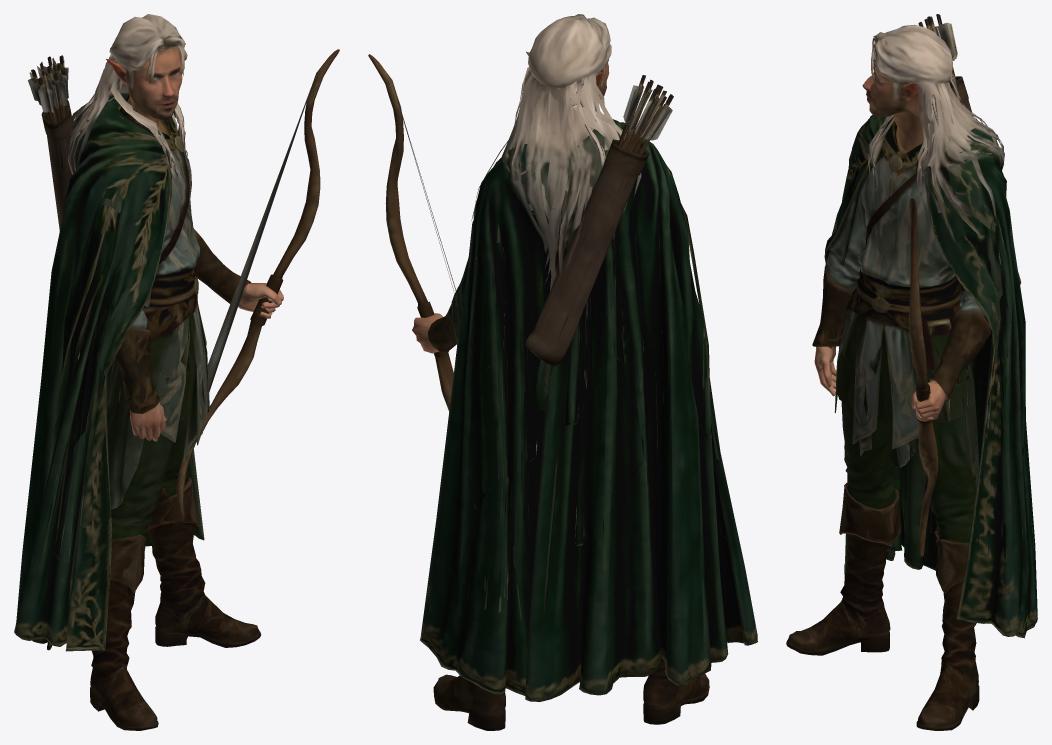
File: rycard.glb
3 views of the same model, side by side, from view 1: azimuth 30°, elevation 25°; view 2: azimuth 150°, elevation 25°; view 3: azimuth 270°, elevation 25° (orthographic). The views are drawn at different scales.
Parts seen in each view (by area): view 1: geometry_0; view 2: geometry_0; view 3: geometry_0.
Boxes of the visible parts, x1=… form: geometry_0: x1=14, y1=14, x2=339, y2=730; geometry_0: x1=368, y1=14, x2=757, y2=730; geometry_0: x1=786, y1=14, x2=1037, y2=730.
Size of the model in its own units: 0.5225 by 0.9517 by 0.3335.
1 material, 1 textured.
